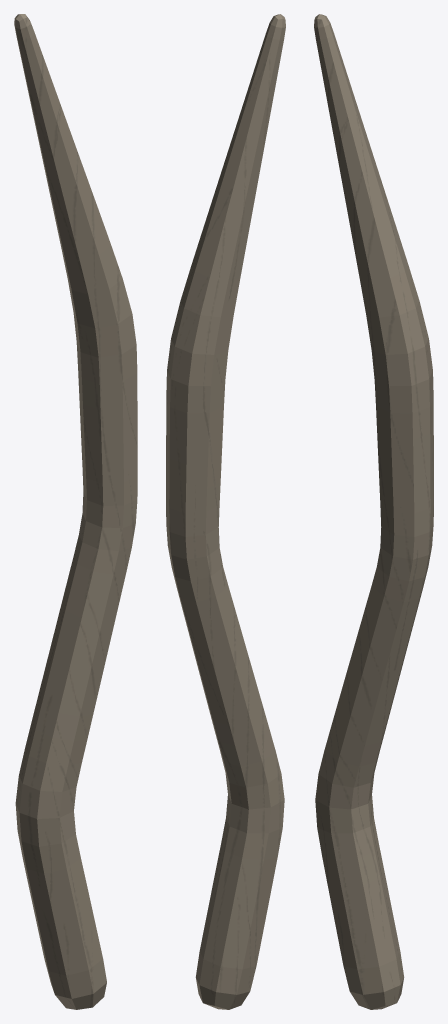
File: Palo3.fbx
3 views of the same model, side by side, from view 1: azimuth 30°, elevation 25°; view 2: azimuth 210°, elevation 25°; view 3: azimuth 330°, elevation 25° (orthographic). The views are drawn at different scales.
Parts seen in each view (by area): view 1: Vert.023; view 2: Vert.023; view 3: Vert.023.
Part boxes in pixels (<box>): Vert.023: <box>14,14,137,1009</box>; Vert.023: <box>166,14,285,1009</box>; Vert.023: <box>314,14,433,1009</box>.
Size of the model in its own units: 67.68 by 549 by 29.96.
